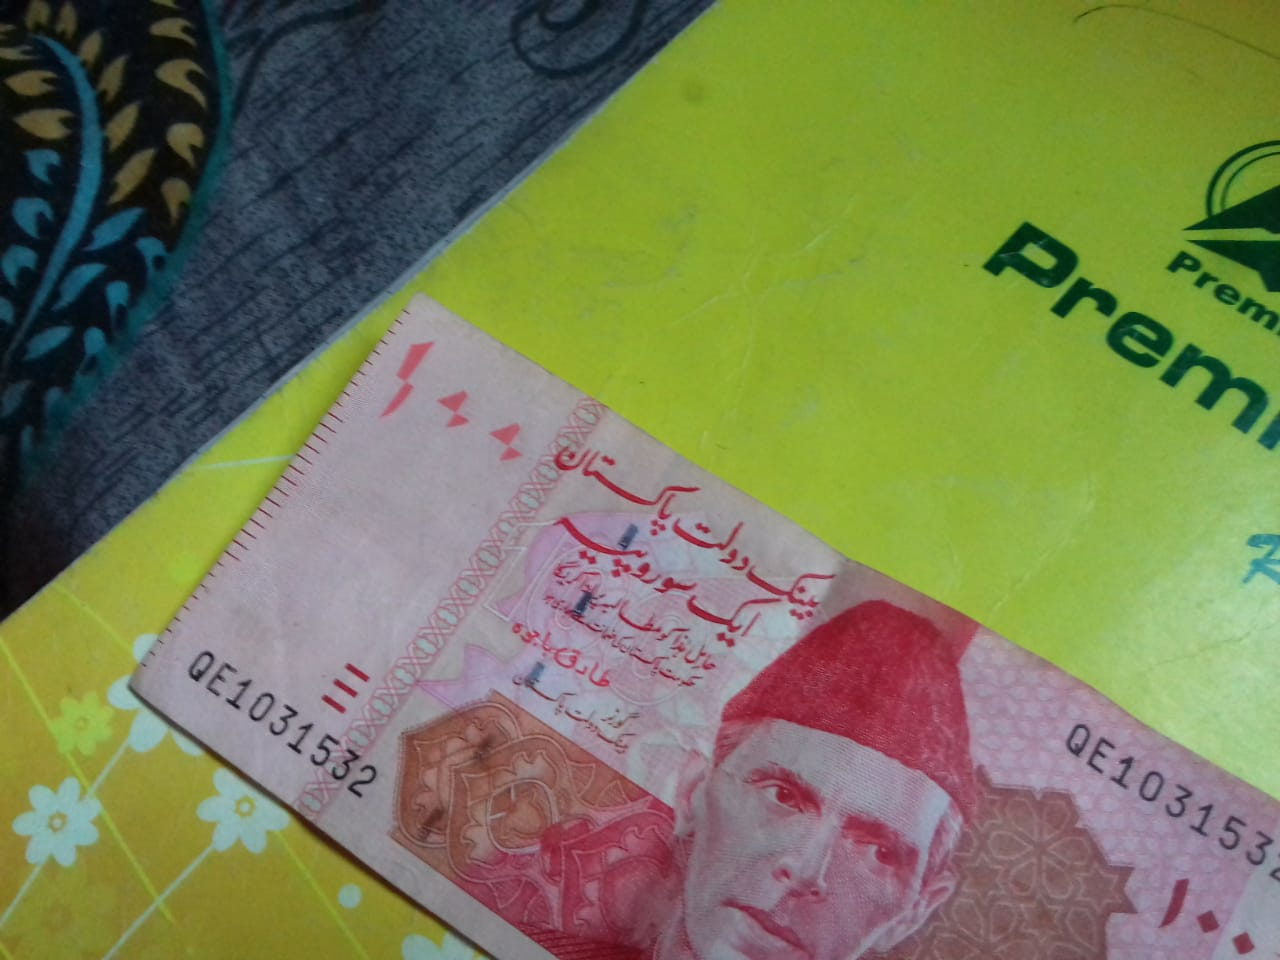100 rupee: (127, 306, 1277, 954)
